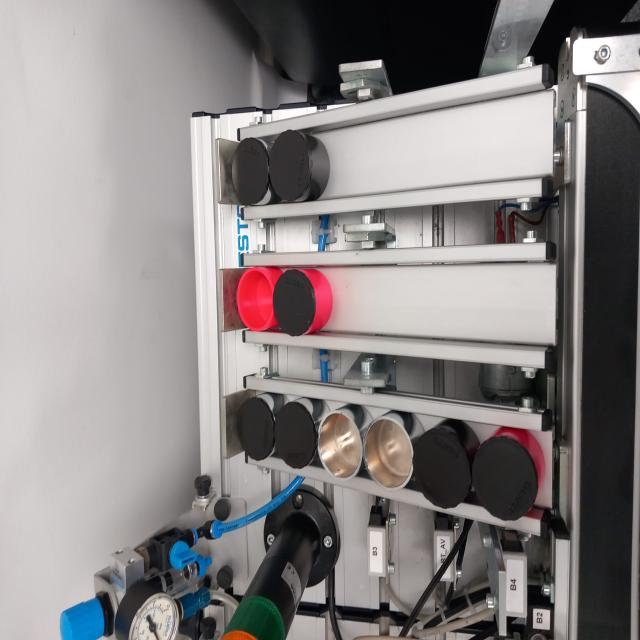NoLid: (367, 397, 417, 496), (318, 396, 365, 483), (234, 258, 276, 337)
Workpiece: (473, 427, 545, 522), (413, 416, 471, 505), (272, 261, 329, 347), (267, 136, 325, 203), (235, 386, 279, 465), (275, 393, 318, 473), (224, 142, 273, 209)
